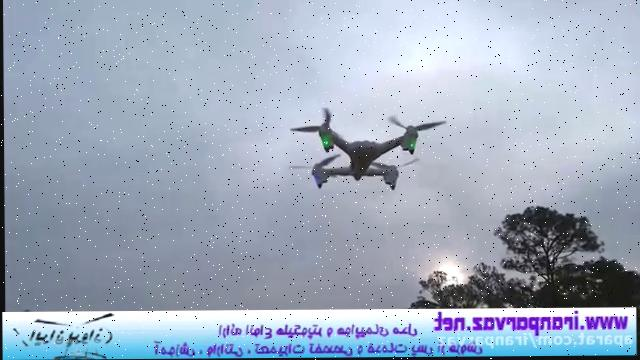drone: (287, 105, 449, 192)
